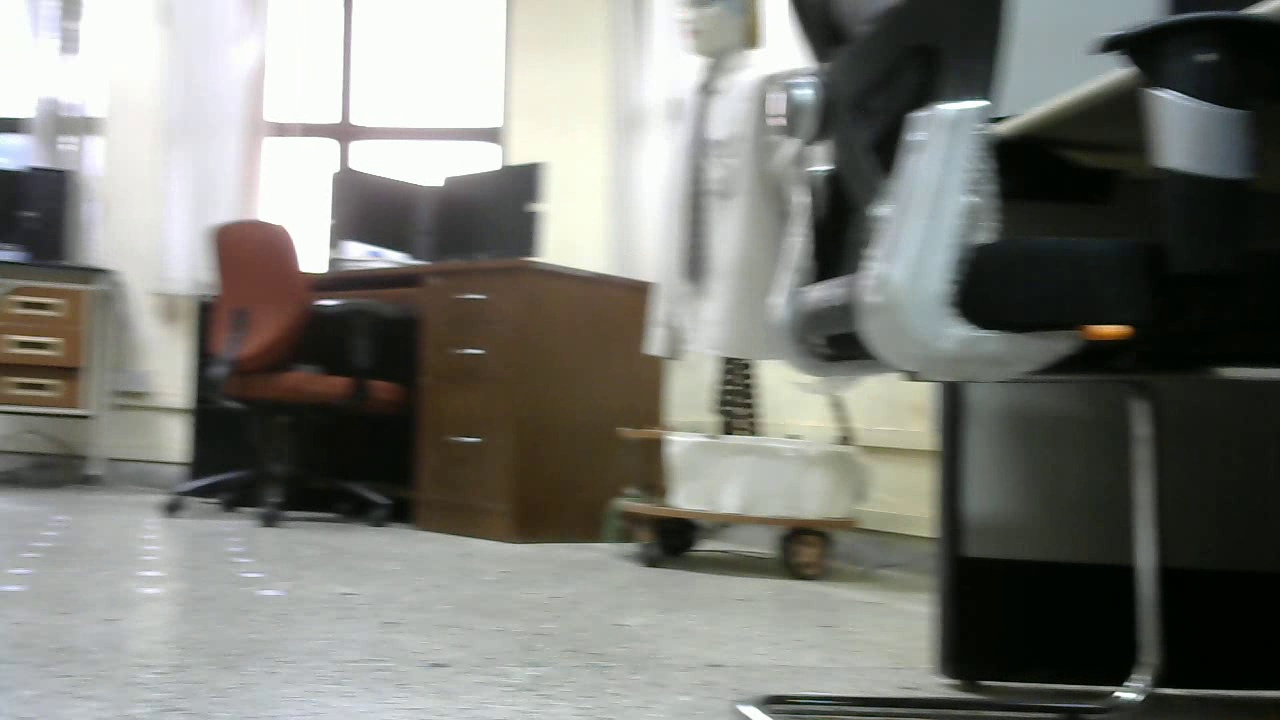chair: (757, 1, 1280, 720), (156, 217, 418, 540)
